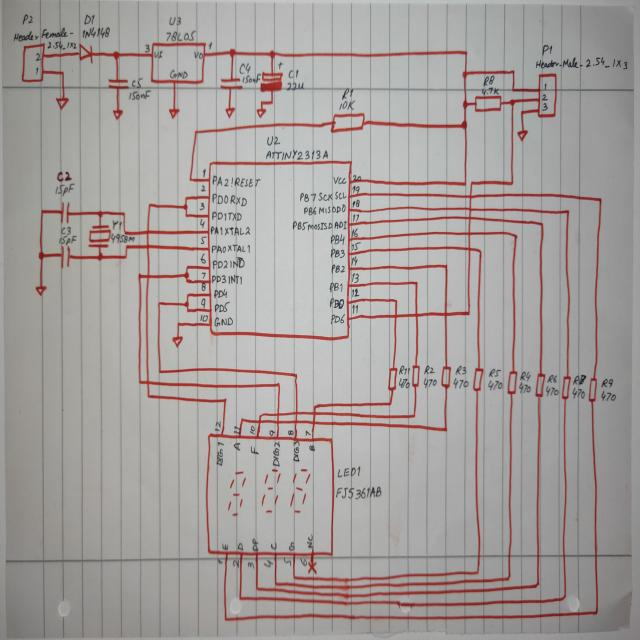capacitor: (260, 61, 284, 93), (219, 76, 242, 92), (107, 76, 129, 92), (60, 245, 72, 270), (60, 200, 70, 224)
crossover: (392, 311, 399, 321), (413, 310, 420, 320), (442, 310, 449, 319), (145, 227, 151, 236), (145, 378, 151, 387), (145, 242, 151, 251), (146, 272, 151, 282), (466, 229, 472, 237), (466, 245, 472, 253), (467, 193, 473, 200), (467, 205, 473, 212), (467, 215, 472, 222), (312, 419, 316, 426), (312, 411, 317, 416), (276, 419, 280, 425), (294, 410, 298, 416), (294, 418, 298, 424), (258, 419, 262, 424), (276, 412, 280, 416)
diode: (78, 42, 94, 64)
ground: (55, 95, 70, 112), (224, 106, 236, 120), (516, 129, 528, 142), (172, 335, 184, 348), (168, 108, 180, 120), (35, 284, 47, 296), (112, 109, 124, 121), (256, 108, 266, 119)
junction: (112, 49, 120, 61), (461, 119, 469, 131), (461, 68, 469, 79), (592, 607, 600, 618), (504, 572, 512, 582), (268, 50, 276, 60), (462, 98, 469, 109), (38, 250, 45, 260), (229, 48, 236, 58), (509, 97, 516, 107), (136, 271, 143, 281), (253, 583, 260, 593), (474, 566, 481, 576), (223, 614, 229, 624), (463, 48, 469, 58), (237, 593, 243, 603), (97, 252, 103, 262), (442, 425, 448, 434), (222, 396, 228, 405), (443, 262, 449, 271), (534, 580, 540, 589), (156, 299, 162, 308), (510, 85, 516, 94), (392, 296, 398, 305), (519, 108, 525, 117), (462, 179, 468, 188), (387, 400, 393, 408), (510, 68, 516, 76), (193, 128, 199, 136), (39, 208, 45, 216), (147, 201, 153, 209), (509, 178, 515, 186), (137, 378, 143, 386), (564, 208, 570, 216), (561, 593, 567, 601), (184, 271, 190, 279), (60, 70, 66, 77), (411, 412, 417, 419), (597, 196, 603, 203), (539, 221, 545, 228), (477, 248, 483, 255), (414, 279, 419, 287), (188, 175, 193, 183), (466, 309, 471, 317), (146, 392, 151, 400), (121, 210, 126, 218), (98, 210, 103, 218), (258, 412, 264, 418), (513, 233, 518, 240), (276, 381, 281, 388), (469, 179, 474, 186), (183, 203, 188, 210), (177, 320, 181, 328), (184, 301, 189, 307), (158, 368, 162, 375), (125, 244, 129, 251), (292, 573, 296, 580), (240, 416, 244, 423), (124, 229, 128, 236), (186, 264, 190, 271), (124, 254, 128, 260), (184, 196, 188, 202), (312, 403, 316, 409), (274, 580, 278, 586), (294, 372, 298, 378), (185, 278, 189, 284), (186, 308, 190, 314), (260, 100, 264, 106), (270, 99, 274, 105), (186, 293, 190, 298), (185, 213, 188, 218)
resistor: (330, 112, 366, 134), (474, 94, 502, 113), (472, 366, 484, 392), (506, 370, 518, 396), (534, 372, 546, 398), (587, 376, 598, 402), (410, 364, 421, 388), (440, 365, 451, 389), (561, 375, 571, 400), (387, 366, 397, 390)
terminal: (20, 41, 46, 83), (537, 73, 558, 118)
text: (535, 56, 628, 70), (13, 26, 73, 42), (336, 484, 382, 502), (266, 149, 328, 161), (301, 203, 347, 219), (298, 189, 347, 203), (210, 240, 250, 257), (212, 174, 260, 188), (292, 220, 347, 232), (211, 192, 247, 208), (210, 224, 251, 238), (210, 208, 243, 223), (211, 256, 246, 270), (210, 272, 243, 286), (165, 30, 197, 42), (82, 26, 110, 39), (46, 40, 78, 51), (337, 464, 361, 478), (110, 232, 135, 244), (55, 182, 75, 196), (128, 90, 150, 102), (272, 440, 281, 467), (214, 315, 234, 327), (212, 287, 229, 301), (329, 297, 346, 310), (213, 301, 230, 314), (242, 73, 262, 84), (58, 235, 78, 246), (216, 440, 224, 467), (600, 389, 616, 402), (332, 174, 348, 187), (452, 377, 469, 389), (339, 99, 356, 111), (292, 441, 301, 463), (169, 68, 187, 79), (330, 233, 346, 245), (330, 248, 346, 260), (422, 376, 438, 388), (487, 379, 503, 391), (286, 81, 305, 91), (57, 170, 71, 183), (572, 374, 587, 386), (481, 86, 500, 95), (518, 381, 531, 394), (331, 313, 345, 325), (331, 263, 345, 275), (130, 77, 144, 89), (545, 385, 559, 397), (266, 135, 280, 147), (328, 282, 342, 294), (572, 387, 585, 399), (239, 62, 251, 75), (341, 88, 353, 101), (482, 75, 495, 87), (168, 16, 182, 27), (398, 377, 410, 389), (398, 364, 410, 376), (22, 14, 34, 26), (600, 378, 614, 388), (488, 368, 502, 378), (454, 365, 466, 376), (519, 371, 531, 382), (84, 14, 95, 26), (306, 533, 314, 549), (288, 68, 299, 79), (112, 218, 122, 230), (232, 440, 242, 452), (350, 226, 360, 238), (423, 365, 435, 375), (546, 374, 558, 384), (542, 44, 552, 56), (251, 538, 259, 552), (199, 252, 207, 266), (263, 558, 274, 568), (61, 225, 71, 236), (248, 424, 257, 436), (250, 444, 259, 456), (351, 241, 361, 251), (194, 50, 203, 61), (235, 541, 244, 552), (231, 557, 239, 569), (214, 419, 221, 432), (154, 50, 163, 60), (283, 556, 292, 566), (221, 541, 229, 552), (270, 540, 278, 551), (198, 201, 206, 212), (351, 272, 359, 283), (288, 540, 295, 552), (232, 425, 241, 434), (268, 427, 276, 437), (200, 313, 208, 323), (198, 218, 206, 228), (308, 443, 316, 453), (352, 174, 362, 182), (200, 183, 207, 194), (199, 235, 206, 246), (352, 287, 359, 298), (287, 428, 295, 437), (304, 428, 312, 437), (247, 560, 255, 569), (352, 199, 360, 208), (351, 256, 358, 266), (352, 185, 359, 195), (35, 52, 42, 62), (201, 297, 206, 310), (216, 557, 224, 565), (300, 557, 307, 566), (352, 213, 359, 222), (352, 304, 358, 314), (144, 43, 150, 53), (34, 66, 40, 76), (542, 102, 548, 111), (201, 282, 206, 292), (201, 270, 206, 280), (208, 41, 213, 50), (542, 94, 548, 101), (202, 168, 206, 178), (544, 82, 548, 91)
